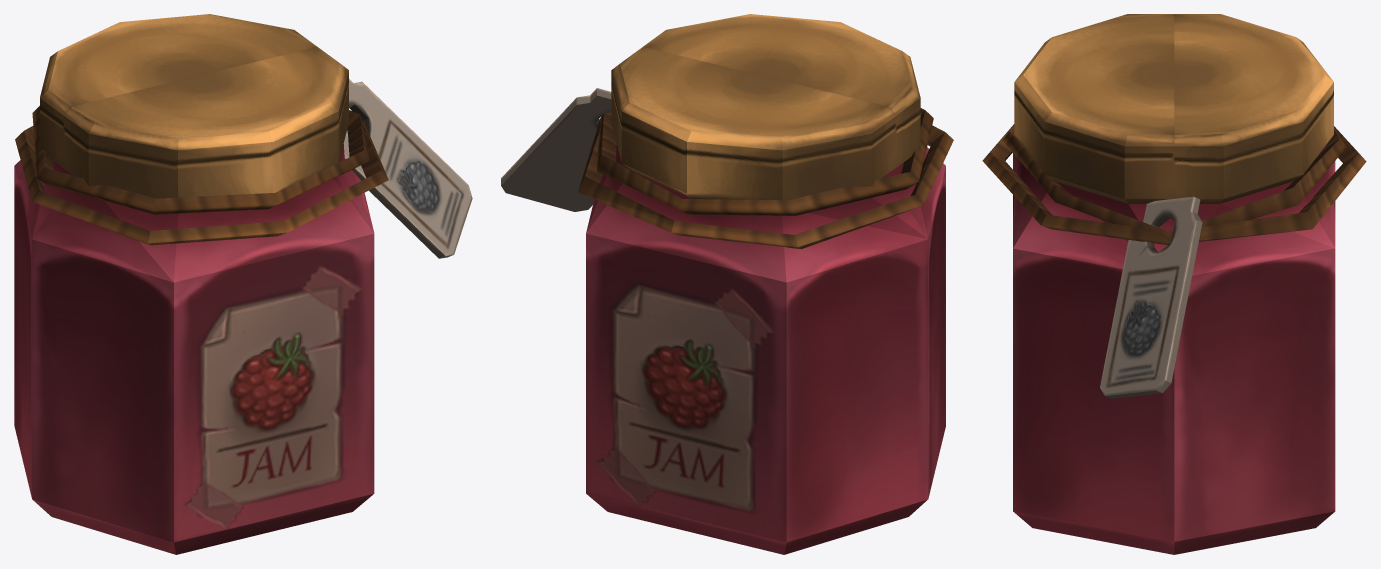
Rendered from 79_jam.FBX.
3 views of the same model, side by side, from view 1: azimuth 30°, elevation 25°; view 2: azimuth 150°, elevation 25°; view 3: azimuth 270°, elevation 25° (orthographic).
Parts seen in each view (by area): view 1: Cylinder015; view 2: Cylinder015; view 3: Cylinder015.
Part boxes in pixels (left/top/right/bottom): Cylinder015: left=14, top=14, right=472, bottom=554; Cylinder015: left=501, top=14, right=953, bottom=554; Cylinder015: left=982, top=14, right=1366, bottom=554.
Size of the model in its own units: 49.08 by 44.01 by 37.4.
